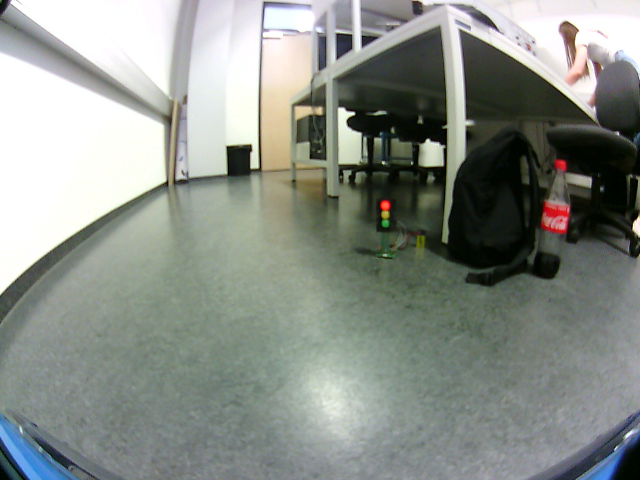red trafficlight: (379, 198, 392, 231)
